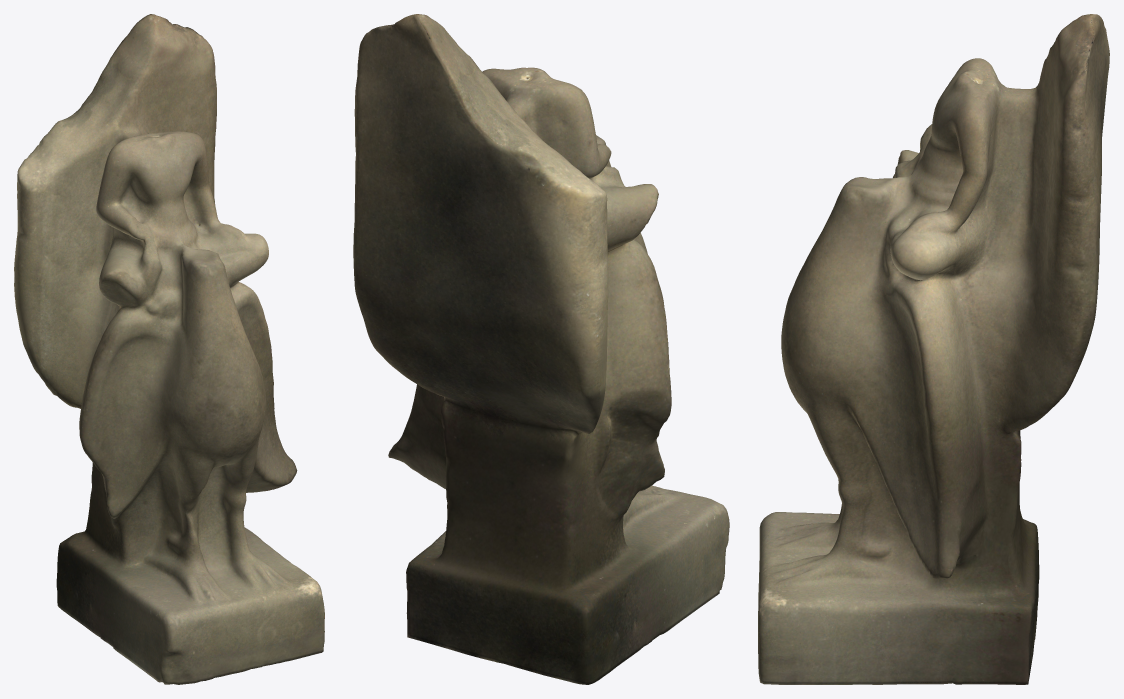
File: 22_skanda.glb
3 renders of one model, left to right at view 1: azimuth 30°, elevation 25°; view 2: azimuth 150°, elevation 25°; view 3: azimuth 270°, elevation 25°, orthographic. The views are drawn at different scales.
Visible parts, largest first — view 1: remesh; view 2: remesh; view 3: remesh.
Boxes of the visible parts, left/top/right/bottom form: remesh: left=14, top=14, right=324, bottom=684; remesh: left=353, top=14, right=729, bottom=684; remesh: left=758, top=14, right=1109, bottom=684.
Size of the model in its own units: 0.3377 by 0.7651 by 0.3755.
Materials: 1 (1 with a texture image).
